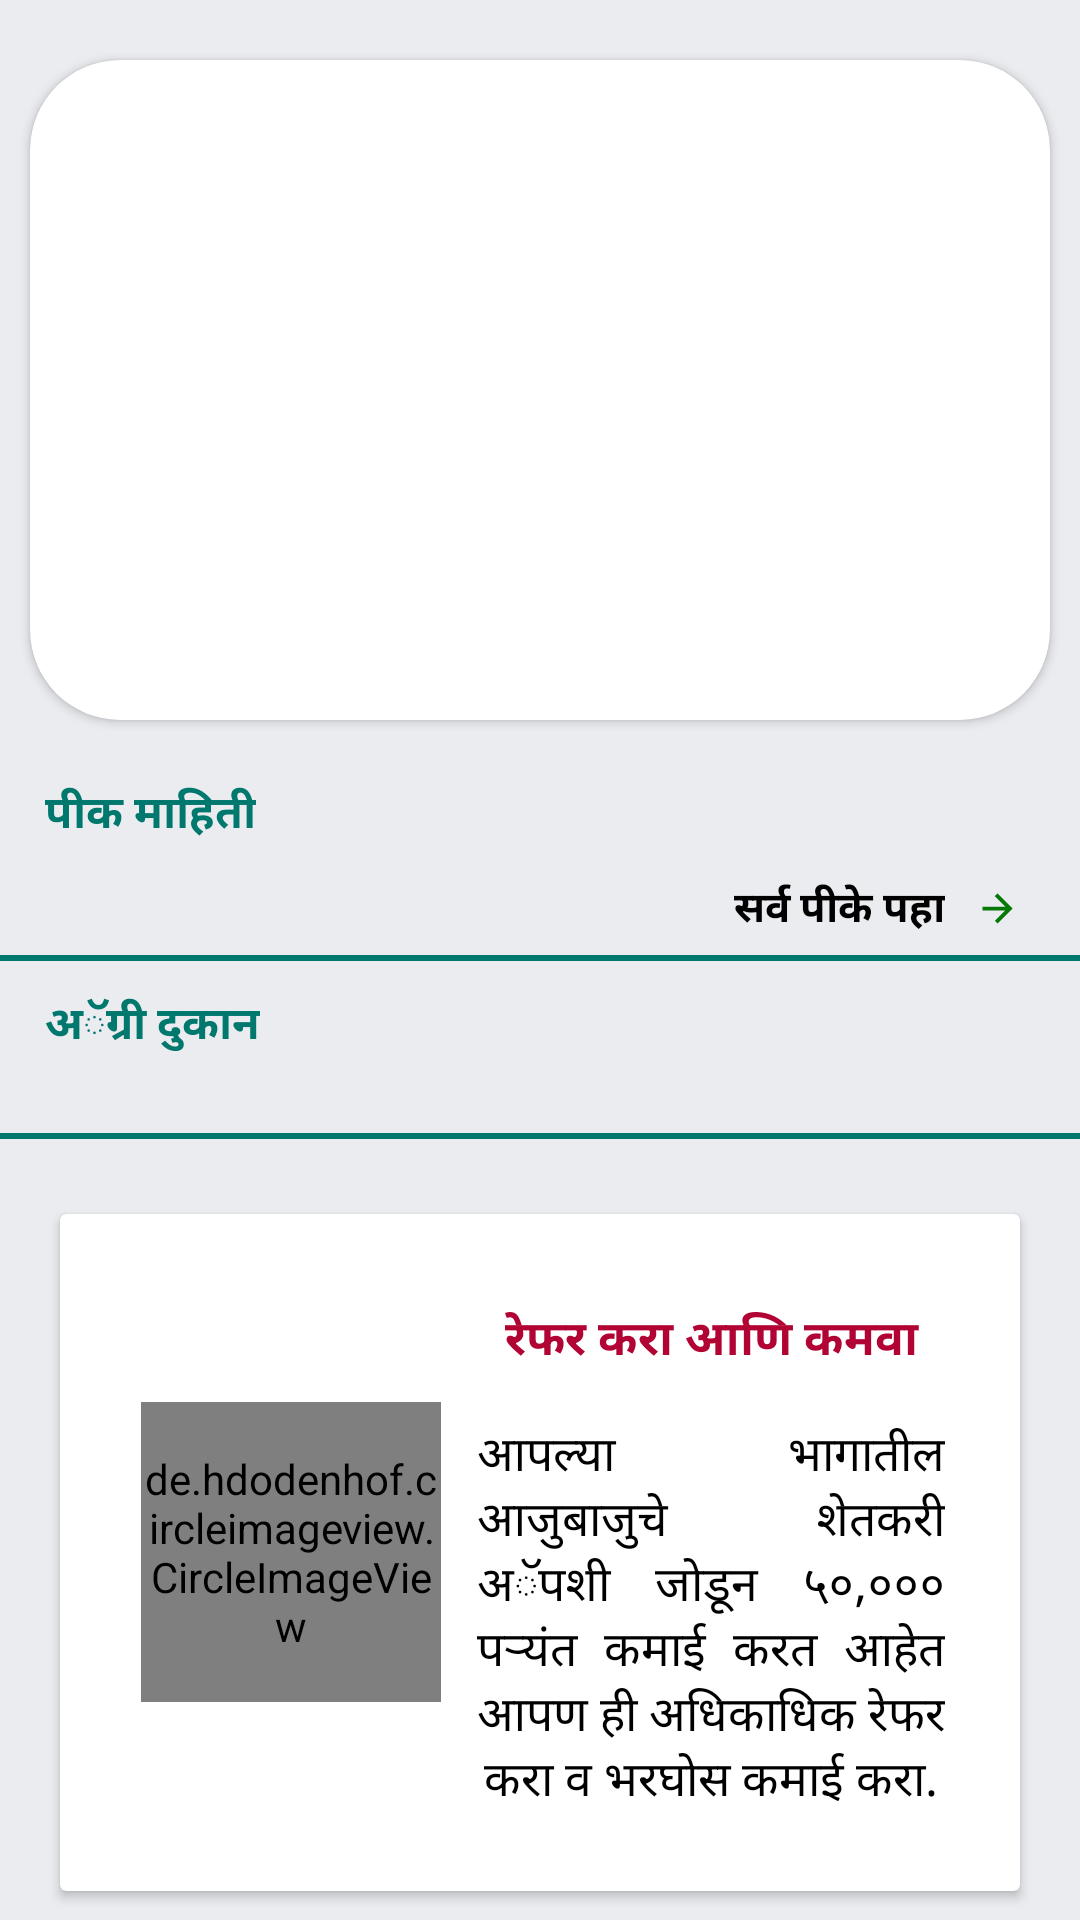

Named icons in this screenshot (1080px×1920px) and their bounding boxes, (x1, y1, x2, y2):
arrow forward: (982, 893, 1013, 924)
